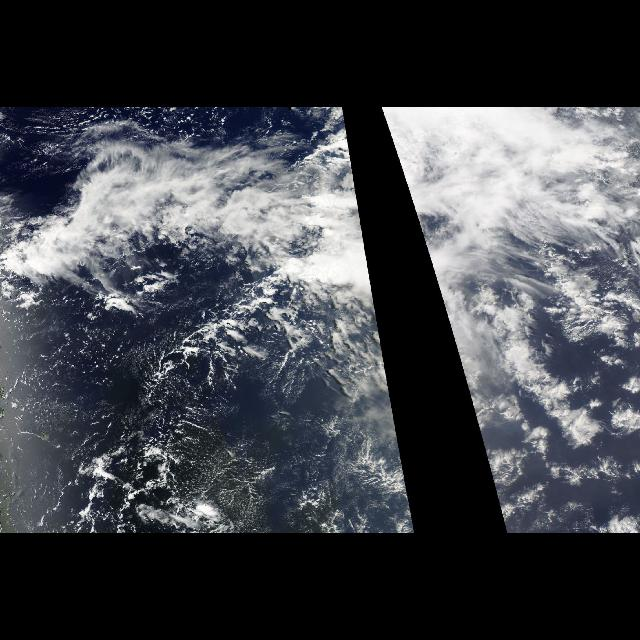Flower: (474, 393, 640, 533)
